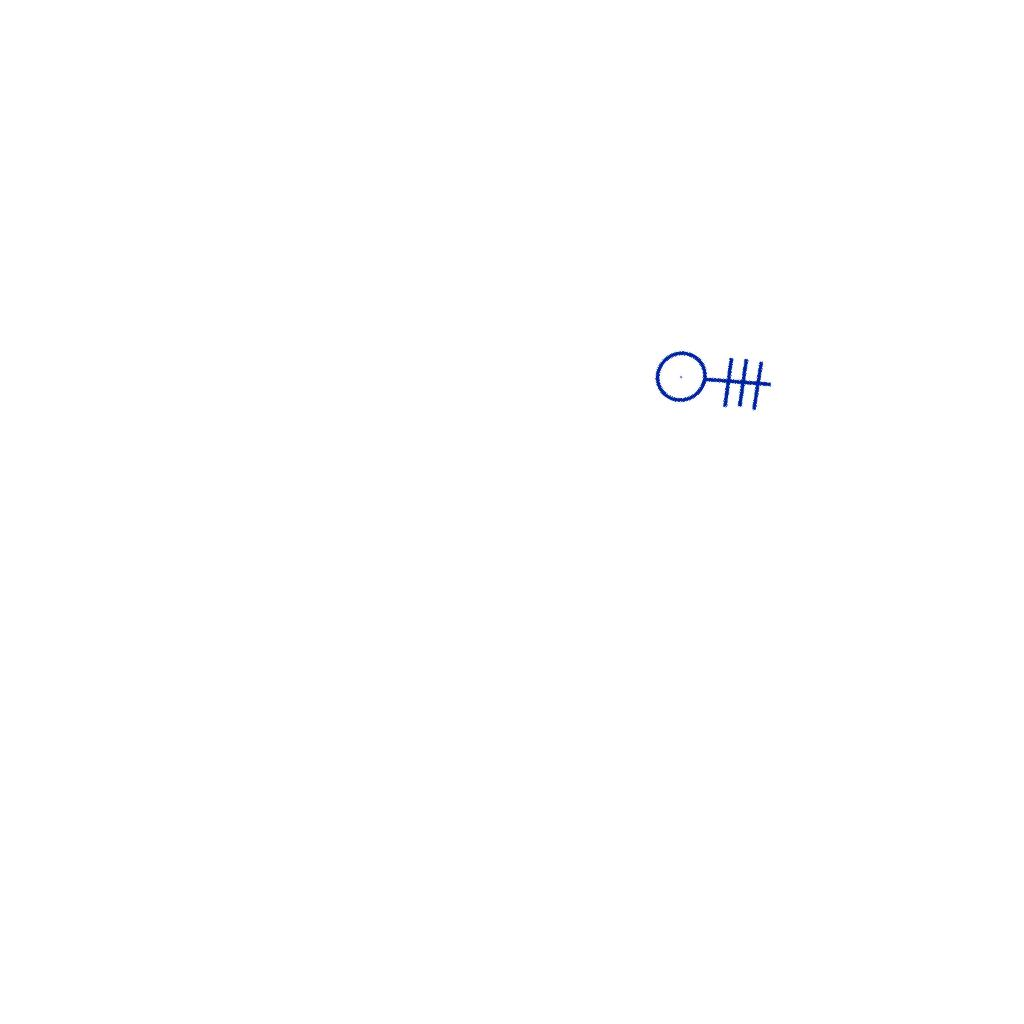Elektroanschluss_allgemein_400V_Geraeteanschlussdose_400V: (633, 289, 795, 452)
